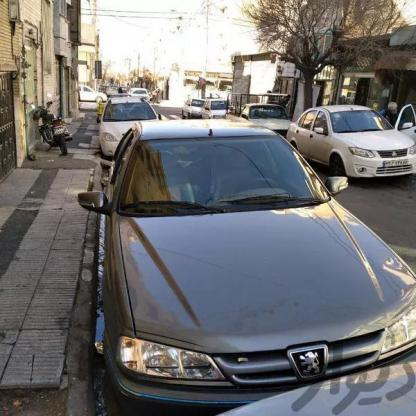Car: (52, 113, 416, 416), (312, 92, 416, 209), (220, 94, 310, 140), (96, 100, 163, 158), (196, 102, 233, 130), (180, 97, 209, 128), (78, 81, 108, 103), (127, 86, 153, 104)
